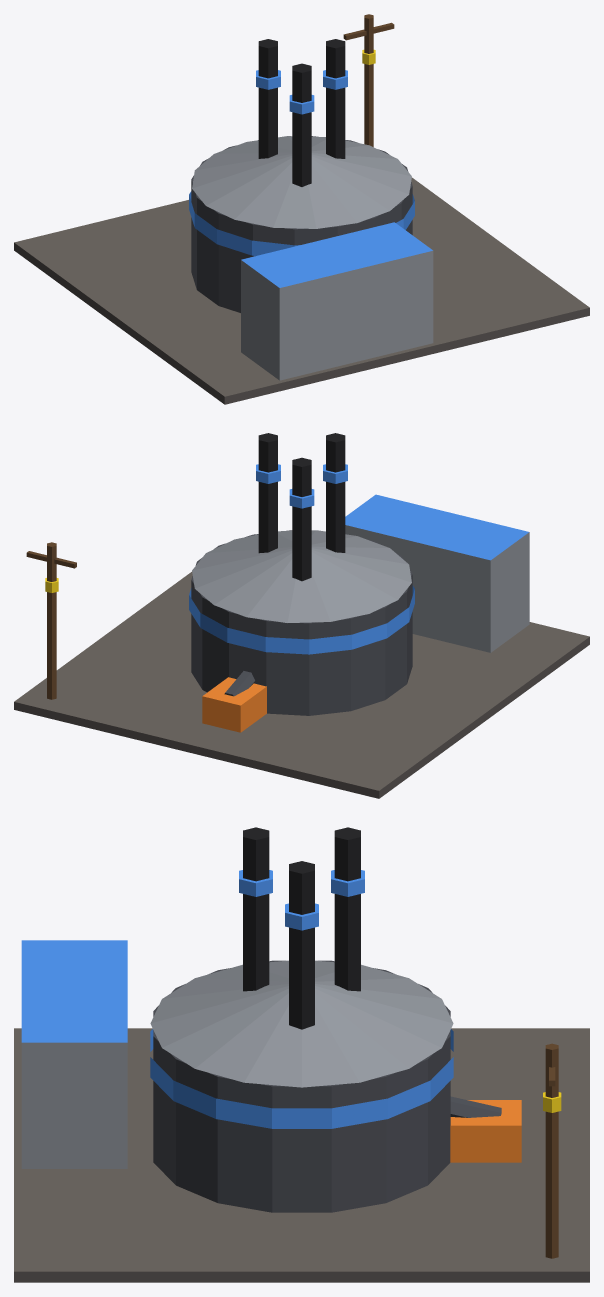
File: electric_furnace.obj
3 views of the same model, one above another, from view 1: azimuth 30°, elevation 25°; view 2: azimuth 150°, elevation 25°; view 3: azimuth 270°, elevation 25° (orthographic). The views are drawn at different scales.
Bounding box in the file's own units: 3.8 × 2.3 × 3.8.
